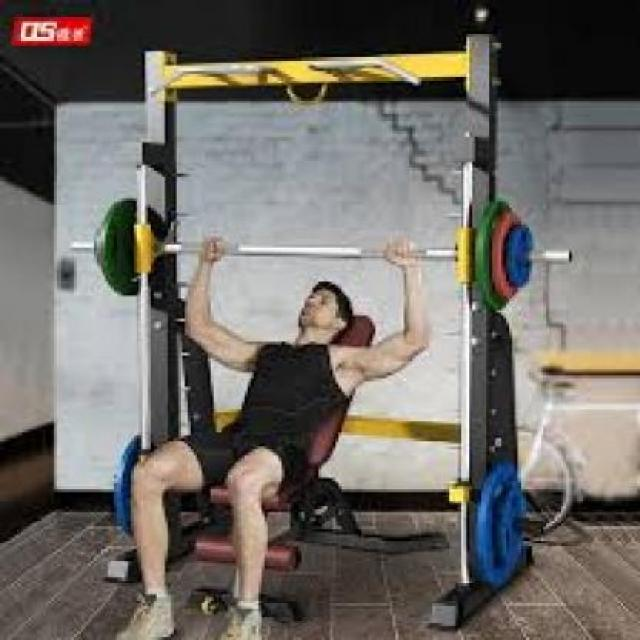smith machine: (97, 34, 537, 628)
